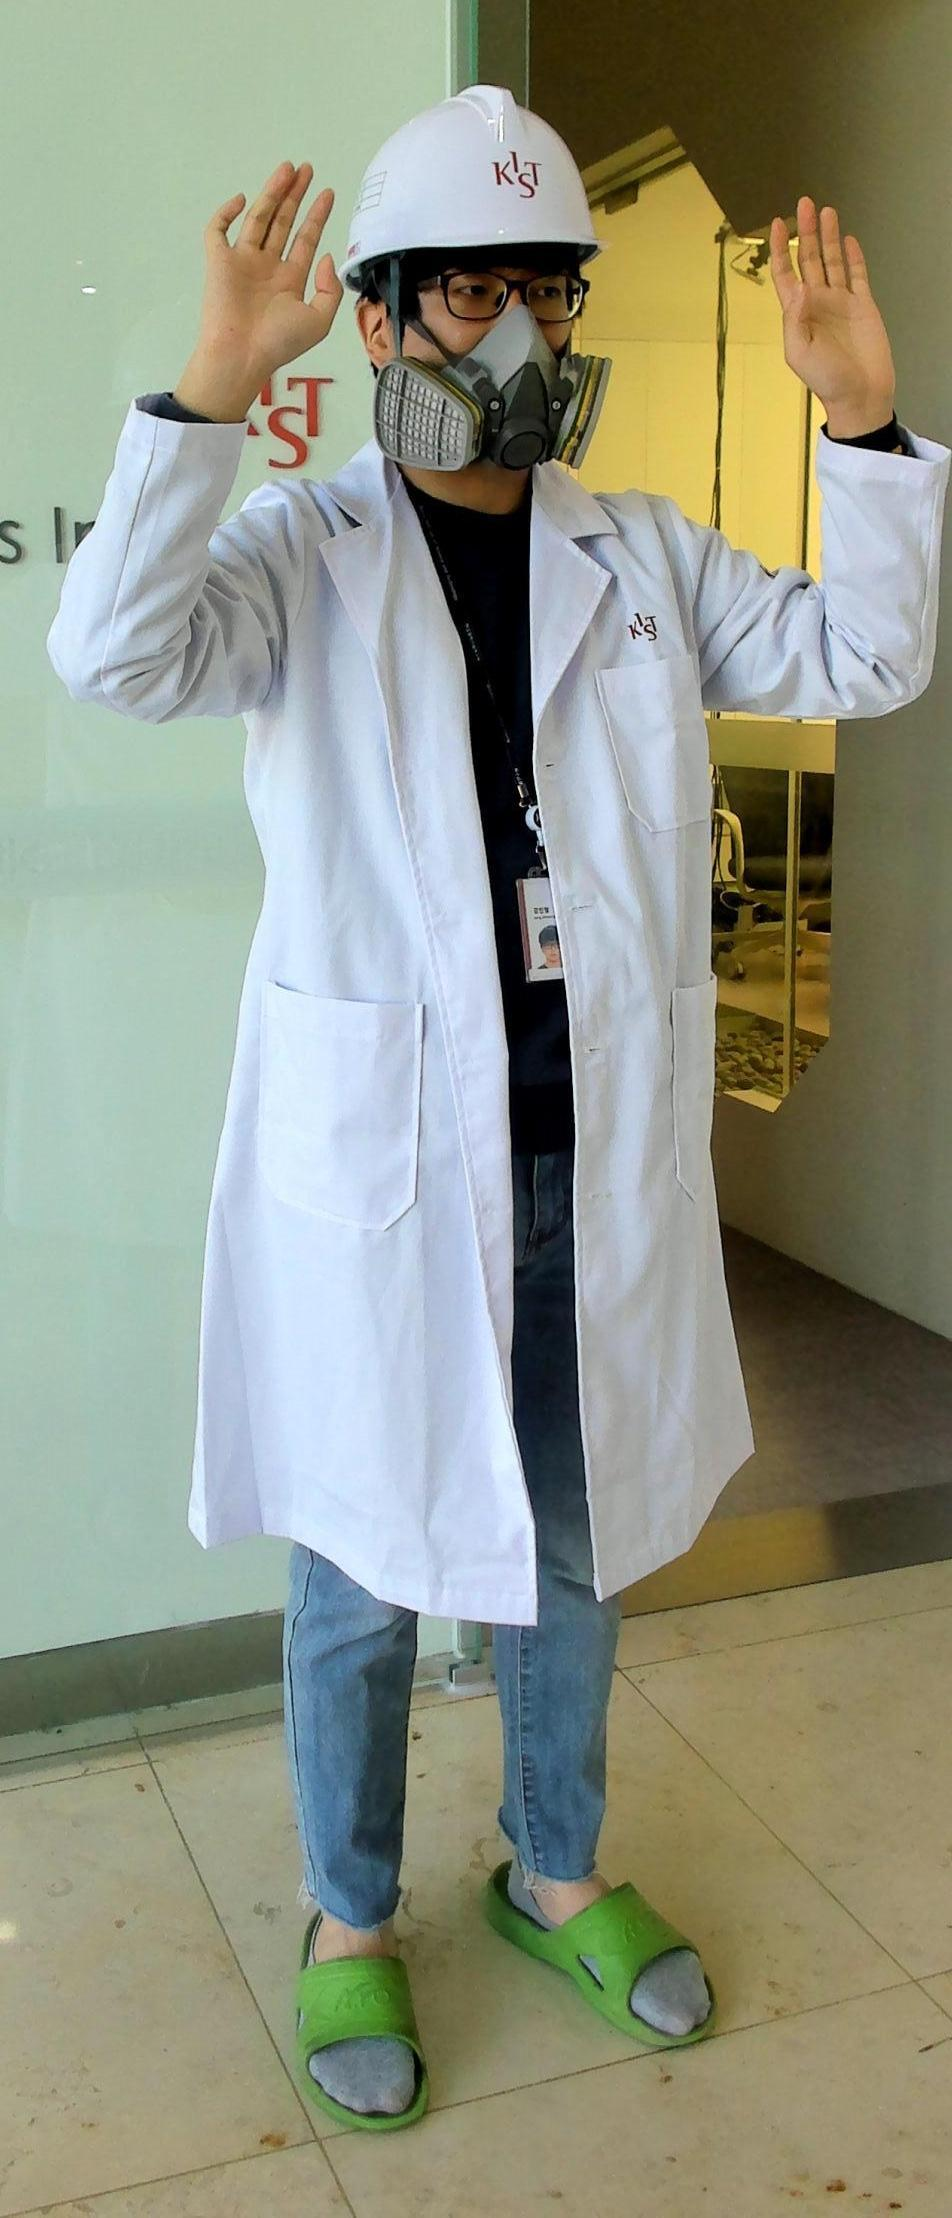lab_coat: (198, 511, 777, 1579)
